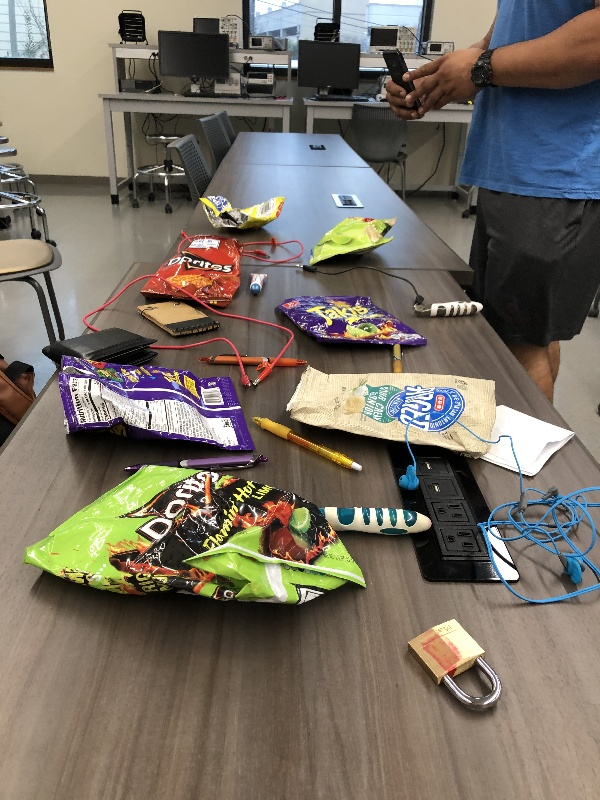bag: (20, 459, 374, 615), (49, 349, 262, 456), (280, 362, 503, 458), (272, 292, 434, 354), (135, 234, 245, 310), (303, 211, 398, 264), (193, 192, 293, 230)
